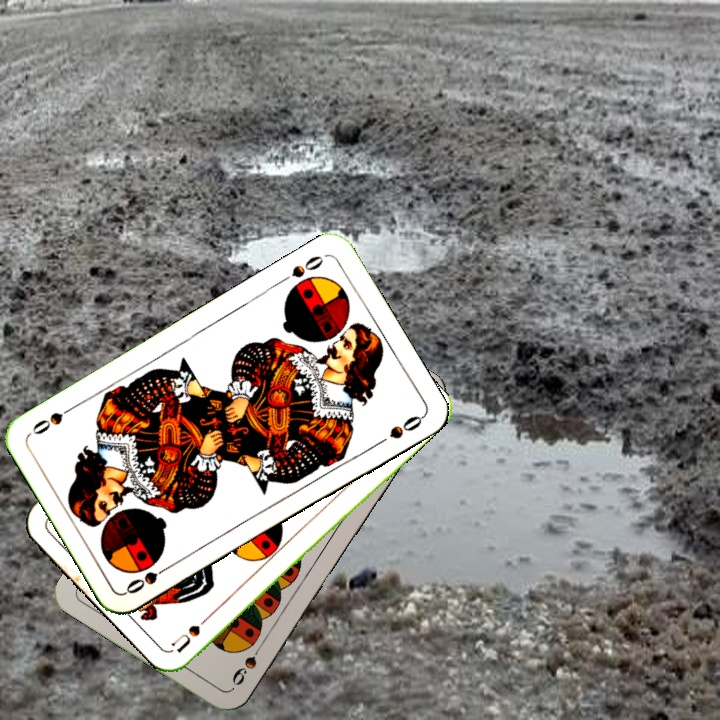S9: (227, 637, 267, 689)
SO: (121, 559, 176, 597), (275, 251, 327, 287)
SU: (168, 606, 218, 655)
